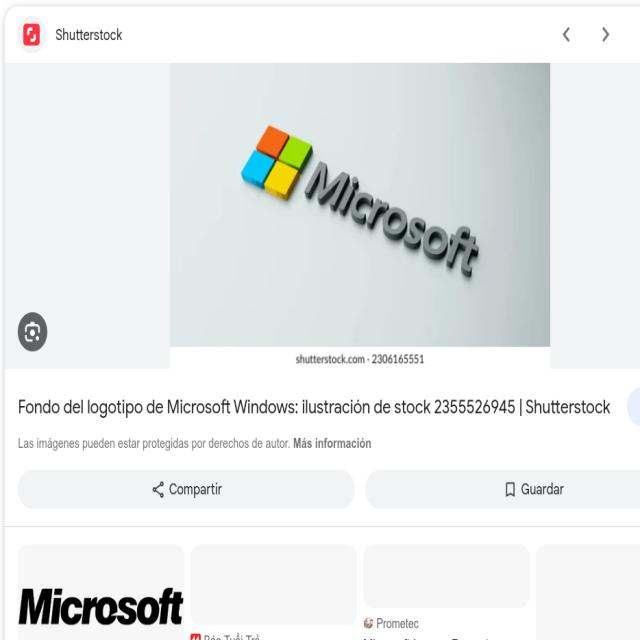microsoft: (239, 126, 313, 196)
microsoft_txt: (300, 155, 485, 282)
